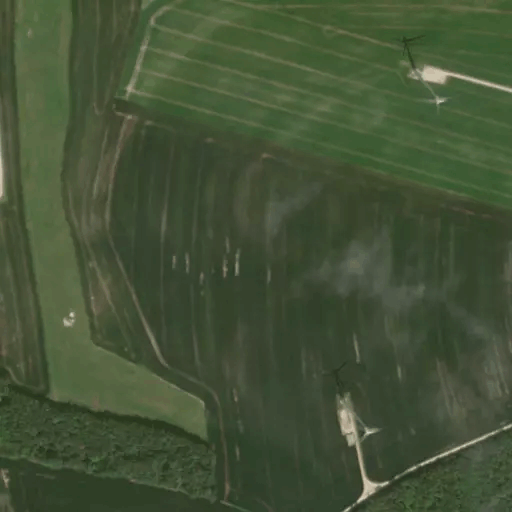wt: (319, 355, 388, 454), (390, 28, 459, 119)
